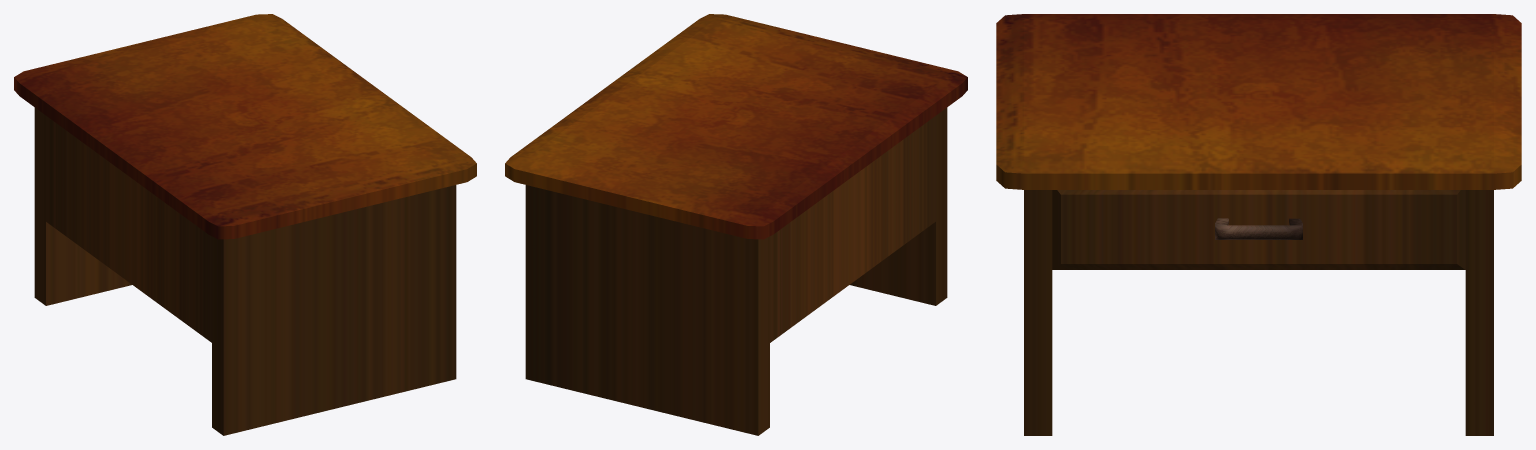
File: obj_janitorTable.fbx
3 views of the same model, side by side, from view 1: azimuth 30°, elevation 25°; view 2: azimuth 150°, elevation 25°; view 3: azimuth 270°, elevation 25° (orthographic). The views are drawn at different scales.
Visible parts, largest first — view 1: polySurface81; view 2: polySurface81; view 3: polySurface81.
Part boxes in pixels (box(x1,y1,x2,y2)): polySurface81: box(14, 14, 476, 435); polySurface81: box(505, 14, 967, 435); polySurface81: box(996, 14, 1521, 435).
Bounding box in the file's own units: 2.1 × 1.6 × 2.77.
Materials: 1 (1 with a texture image).
